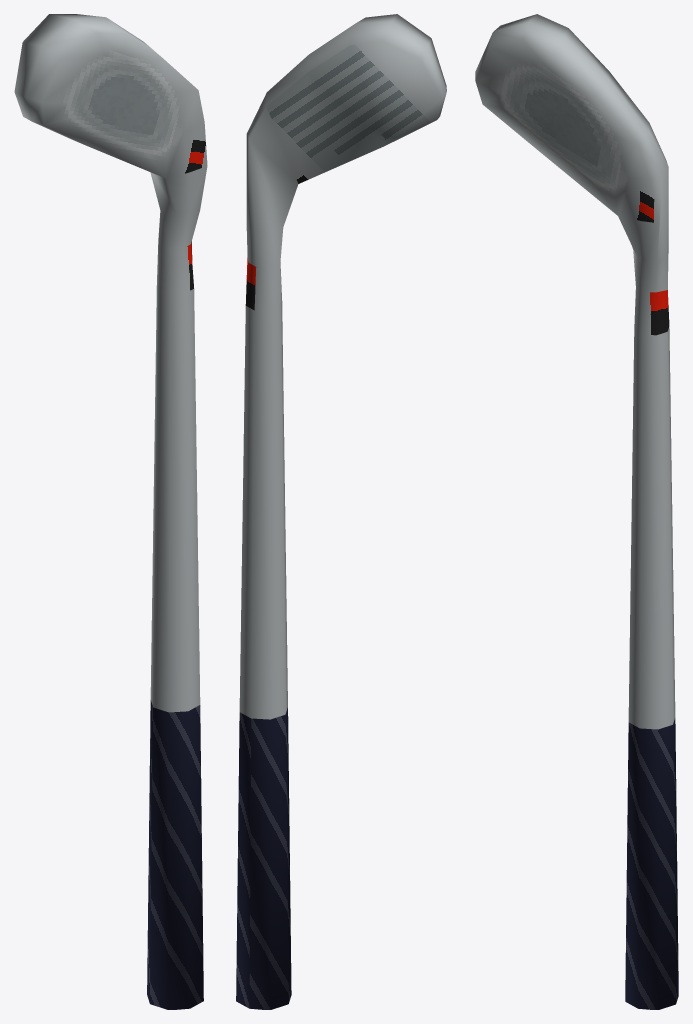
The model's file is club_3i.glb.
The picture shows the model from 3 angles, left to right: view 1: azimuth 30°, elevation 25°; view 2: azimuth 150°, elevation 25°; view 3: azimuth 330°, elevation 25°; orthographic projection. The views are drawn at different scales.
Visible parts, largest first — view 1: polygon1, polygon0; view 2: polygon1, polygon0; view 3: polygon1, polygon0.
Part boxes in pixels (left/top/right/bottom): polygon1: left=14, top=14, right=207, bottom=712; polygon0: left=147, top=700, right=203, bottom=1009; polygon1: left=239, top=14, right=446, bottom=719; polygon0: left=236, top=707, right=291, bottom=1009; polygon1: left=475, top=14, right=675, bottom=729; polygon0: left=625, top=718, right=678, bottom=1009.
Size of the model in its own units: 0.0168 by 0.0838 by 0.00656.
Materials: 2 (2 with a texture image).
